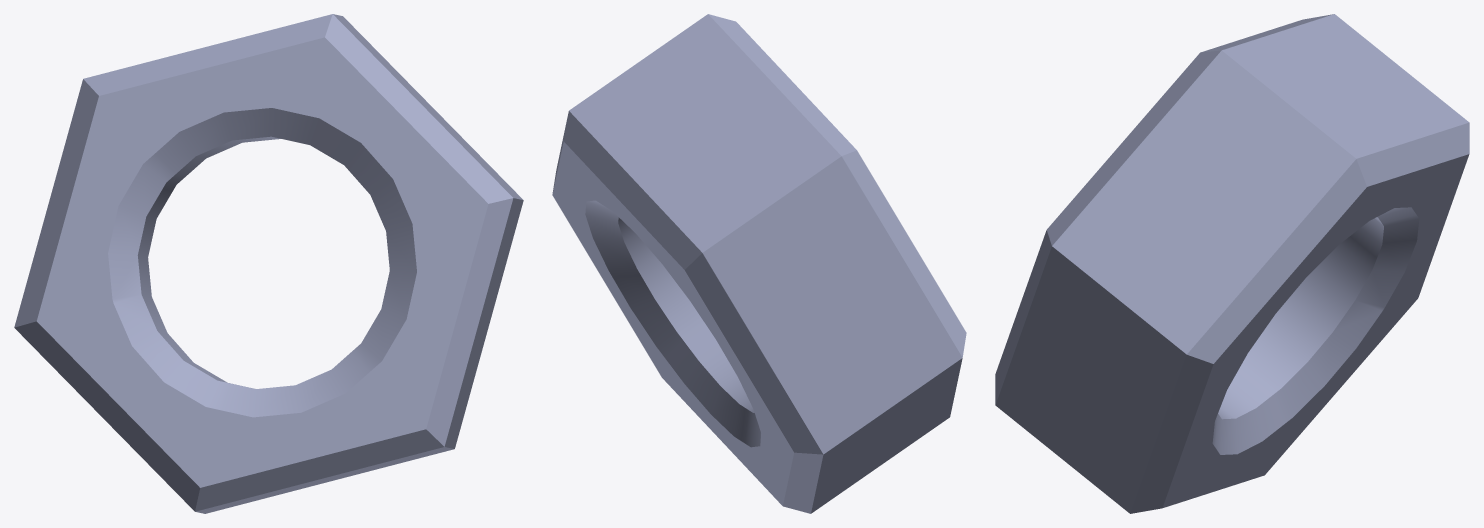
Rendered from nut.dae.
The picture shows the model from 3 angles, left to right: view 1: azimuth 30°, elevation 25°; view 2: azimuth 150°, elevation 25°; view 3: azimuth 270°, elevation 25°; orthographic projection. The views are drawn at different scales.
Parts seen in each view (by area): view 1: Nut; view 2: Nut; view 3: Nut.
Boxes of the visible parts, <box> form: Nut: <box>14,14,523,513</box>; Nut: <box>552,14,966,513</box>; Nut: <box>995,14,1469,513</box>.
Bounding box in the file's own units: 0.5144 × 0.5074 × 0.4497.
Materials: 1 (1 with a texture image).
